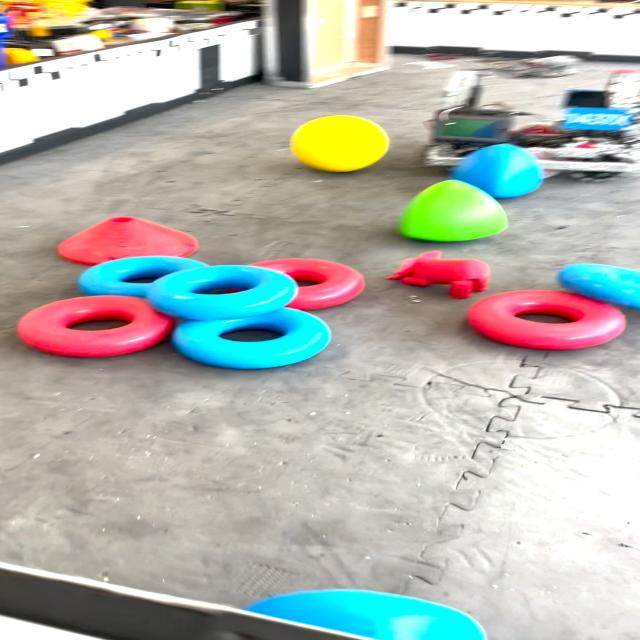Blue-Ring: (171, 308, 331, 369), (147, 265, 298, 321), (78, 256, 207, 298), (558, 264, 640, 308)
Red-Ring: (18, 295, 176, 358), (469, 290, 627, 350), (251, 259, 364, 310)
